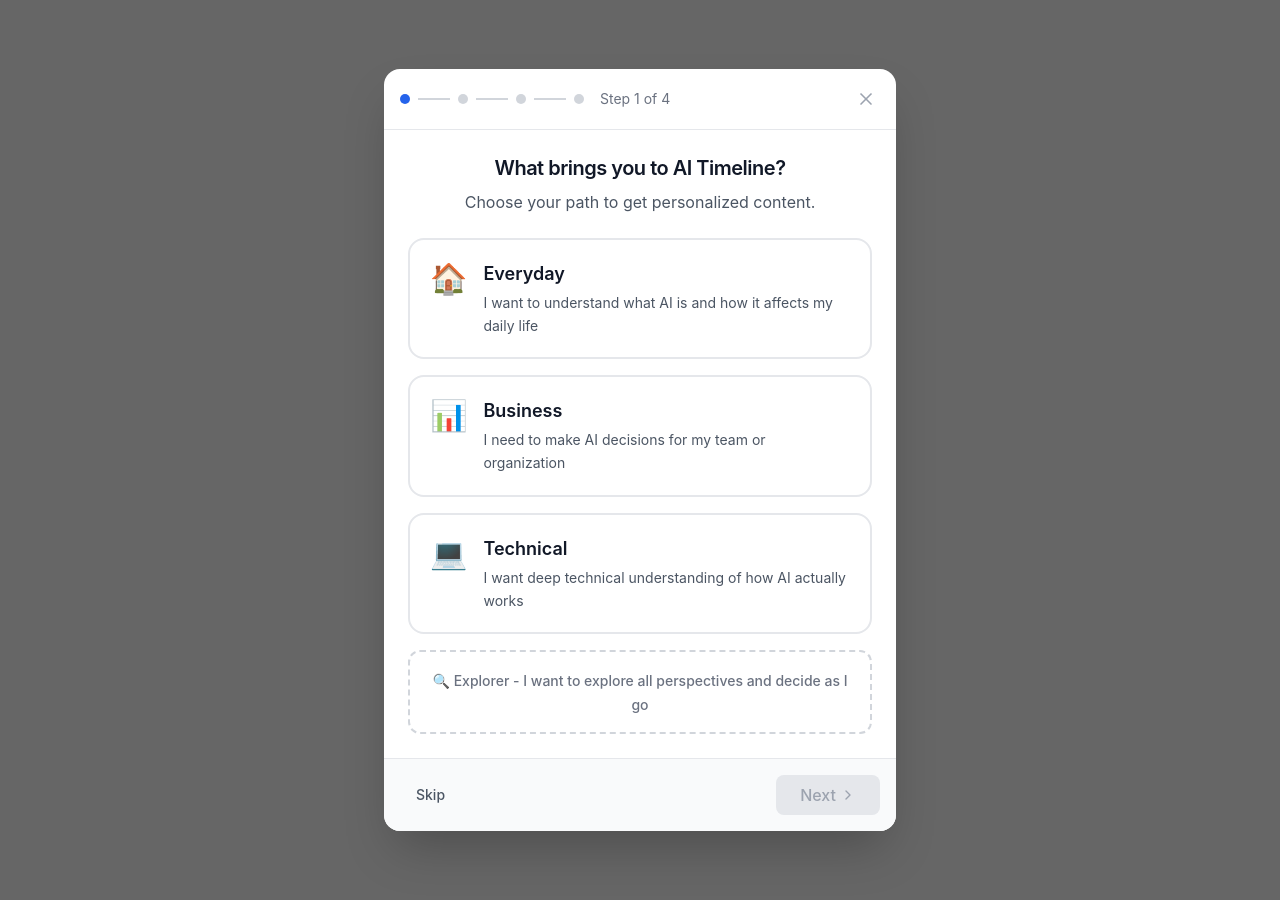
Test: OnboardingModal › everyday audience flow › should skip role and goals for everyday users
Step 1. Click the radio button with test id "audience-everyday" → (640, 299), box [408, 238, 872, 359]
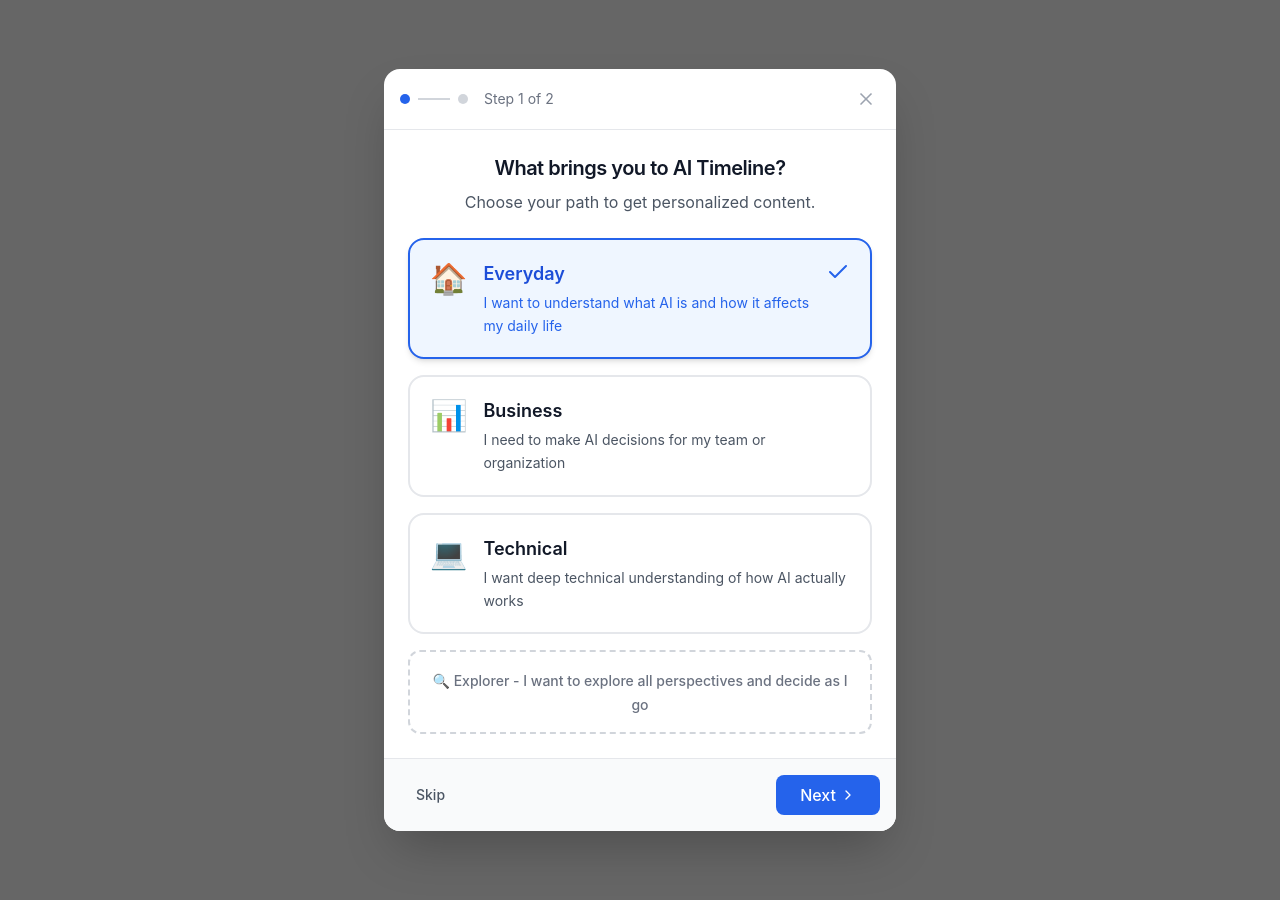
Step 2. Click the button with test id "next-button" → (828, 795), box [776, 775, 880, 815]
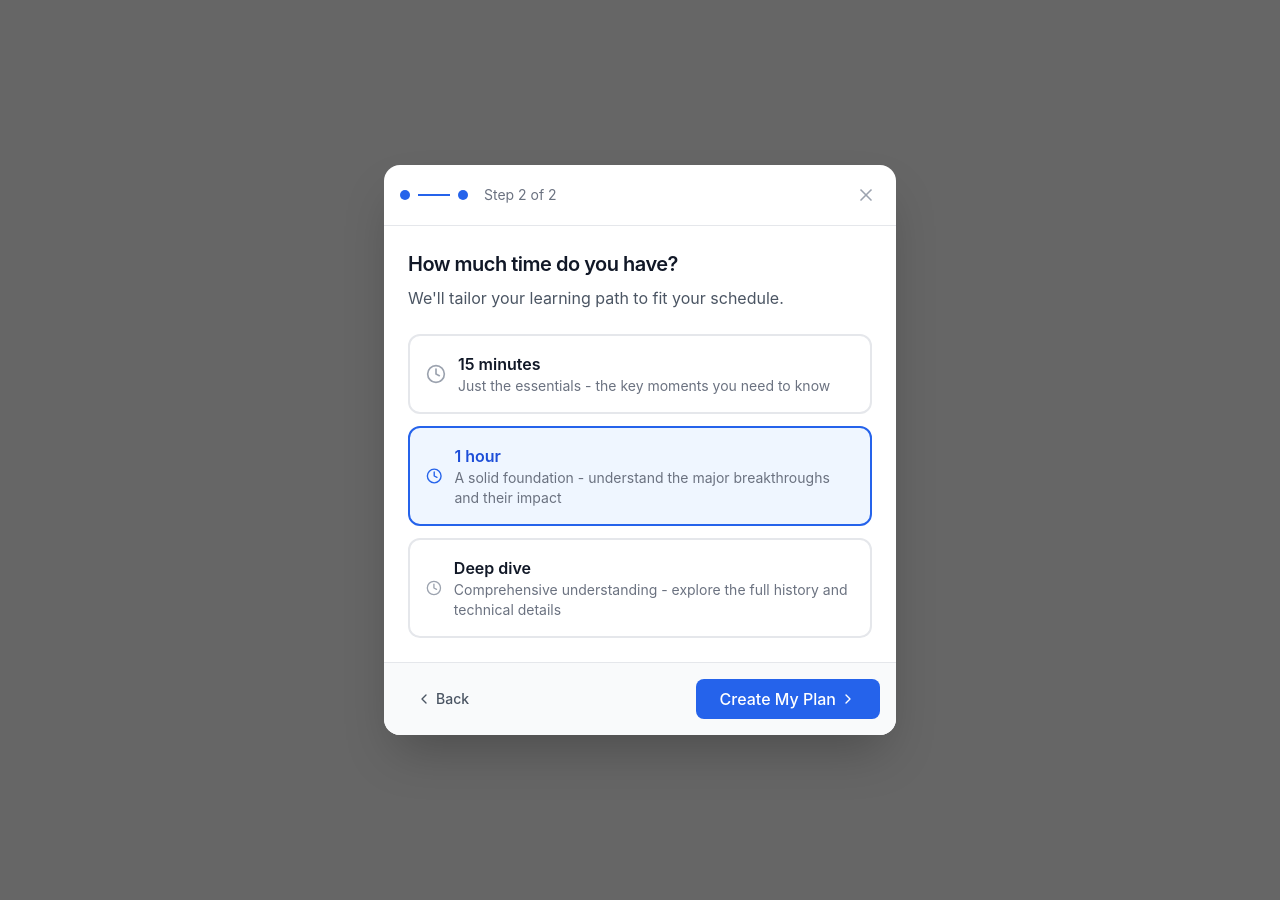
Expected: the heading "How much time do you have?" is shown, [408, 252, 678, 276]
